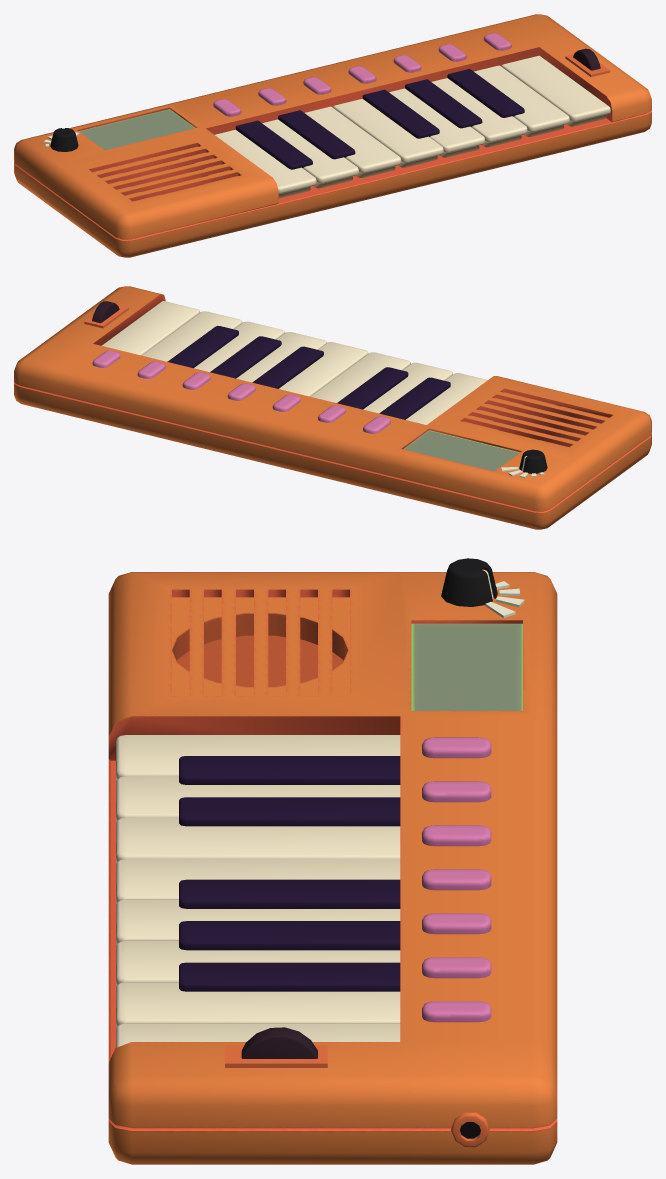
File: piano.glb
3 renders of one model, top to bottom at view 1: azimuth 30°, elevation 25°; view 2: azimuth 150°, elevation 25°; view 3: azimuth 270°, elevation 25°, orthographic. The views are drawn at different scales.
Parts seen in each view (by area): view 1: Cube.037; view 2: Cube.037; view 3: Cube.037.
Boxes of the visible parts, x1,y1,x2,y2 form: Cube.037: (14,14,651,257); Cube.037: (14,286,651,529); Cube.037: (108,558,557,1164).
Size of the model in its own units: 48.65 by 5.08 by 17.57.
1 material, 1 textured.
